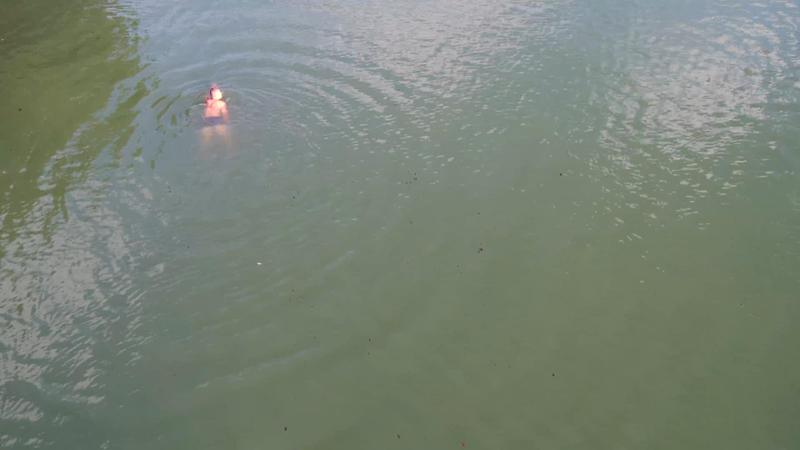swimmers: (197, 83, 230, 153)
